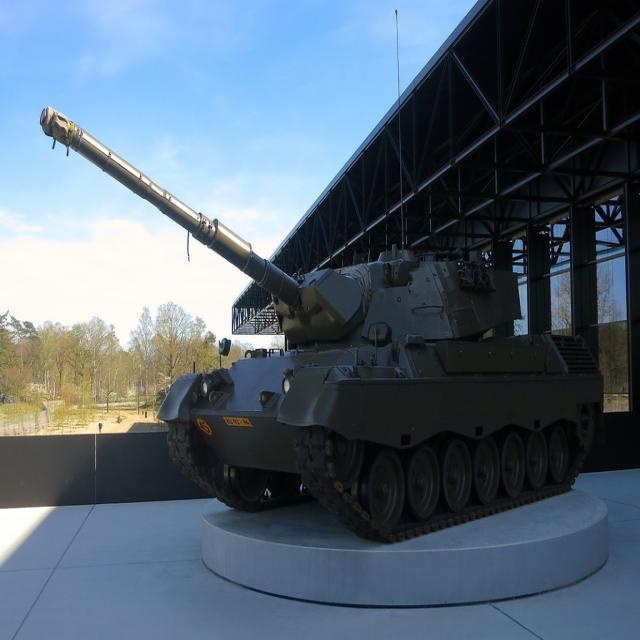tank: (39, 106, 604, 546)
